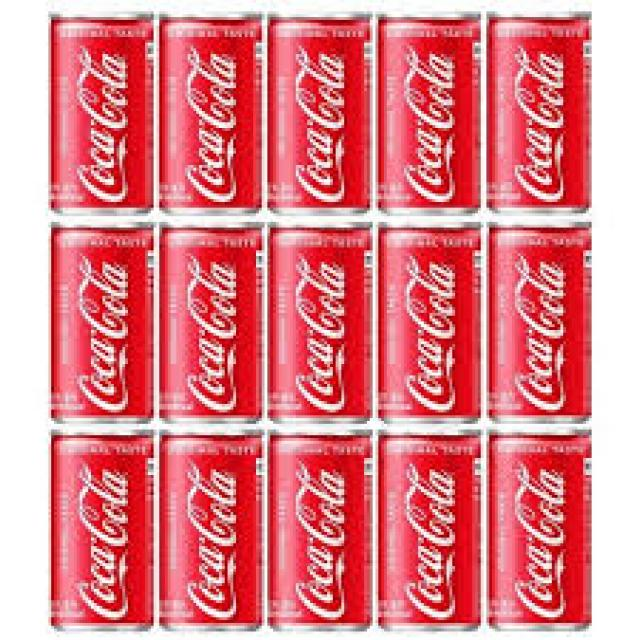Coca-Cola: (40, 1, 156, 218), (43, 424, 156, 632), (482, 426, 598, 627), (157, 12, 269, 218), (484, 11, 596, 216), (267, 6, 375, 218), (158, 424, 268, 632), (44, 222, 156, 424), (156, 224, 267, 426), (480, 226, 592, 426), (373, 428, 481, 632), (376, 12, 486, 212), (266, 226, 374, 426), (376, 227, 484, 422), (269, 432, 372, 631)
